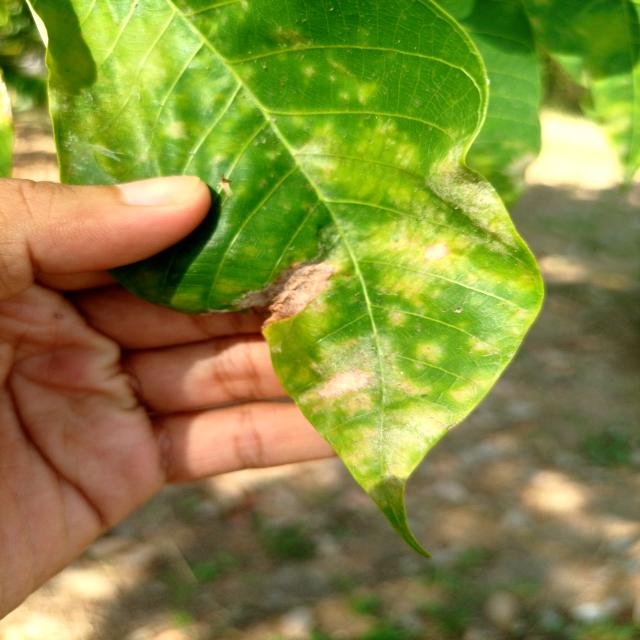Leaf-Blight: (234, 260, 336, 328), (423, 242, 448, 261)
